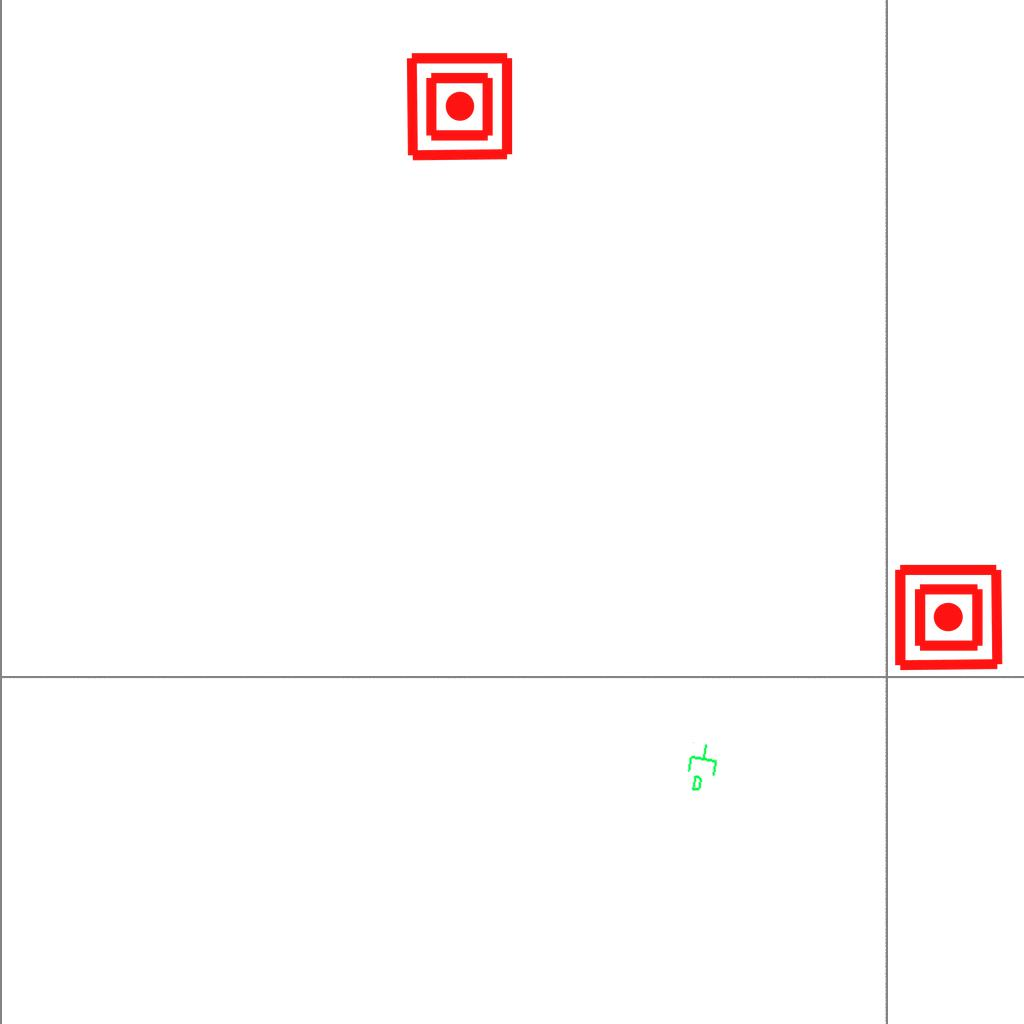Datenanschluss_einfach: (681, 740, 725, 796)
NAM-Nichtautomatischer_Melder: (403, 50, 516, 163), (892, 561, 1005, 674)
